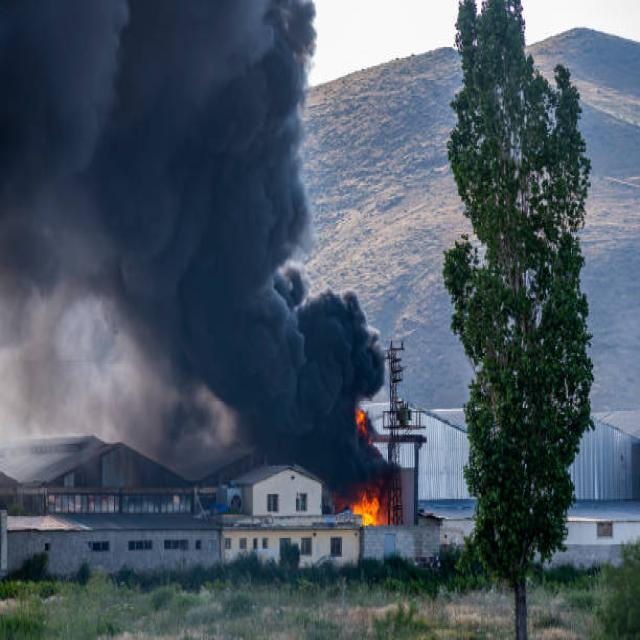Fire: (346, 492, 383, 526), (354, 405, 368, 441)
Smoke: (0, 0, 397, 501)
